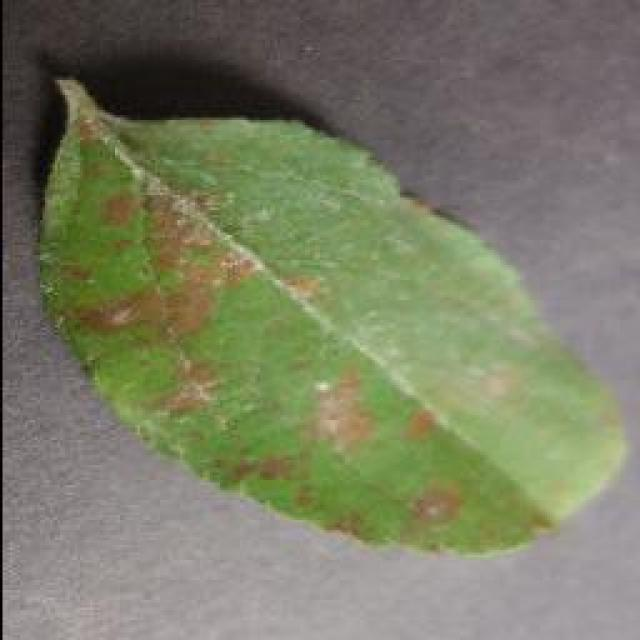apple scab disease: (35, 72, 627, 560)
